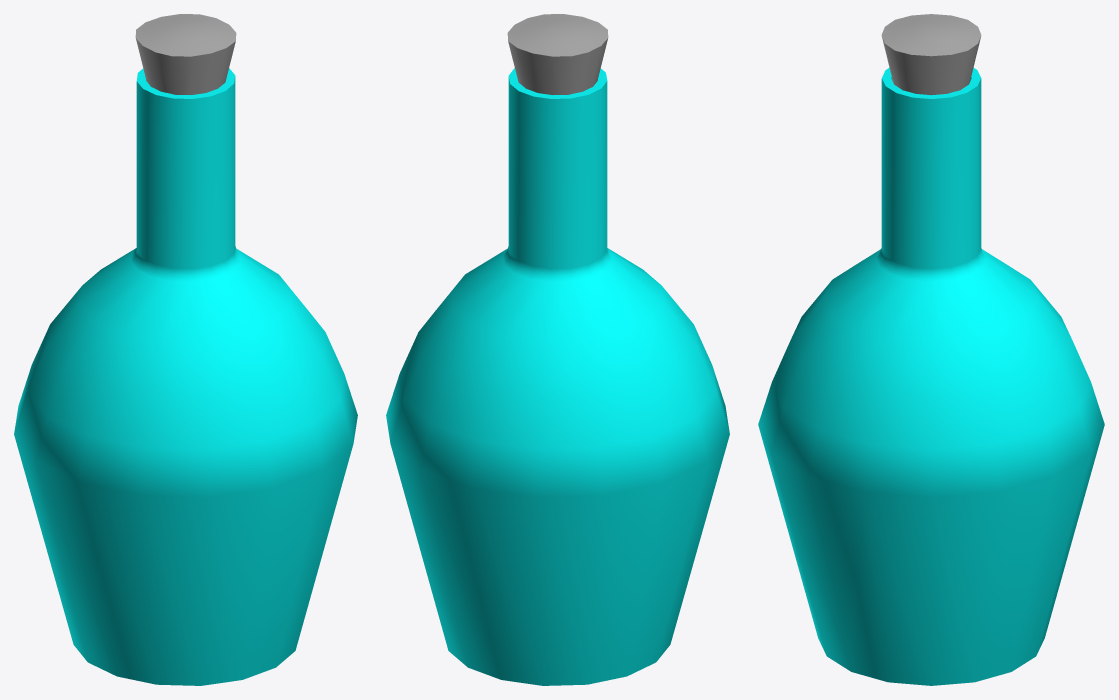
Rendered from Potion3.fbx.
3 renders of one model, left to right at view 1: azimuth 30°, elevation 25°; view 2: azimuth 150°, elevation 25°; view 3: azimuth 270°, elevation 25°, orthographic.
Visible parts, largest first — view 1: potionbottle3, cork3; view 2: potionbottle3, cork3; view 3: potionbottle3, cork3.
Part boxes in pixels (bbox=[...]): potionbottle3: bbox=[14, 68, 357, 685]; cork3: bbox=[135, 14, 236, 94]; potionbottle3: bbox=[386, 68, 729, 685]; cork3: bbox=[507, 14, 608, 94]; potionbottle3: bbox=[758, 67, 1104, 685]; cork3: bbox=[881, 14, 981, 95].
Size of the model in its own units: 12.49 by 24.19 by 12.49.
